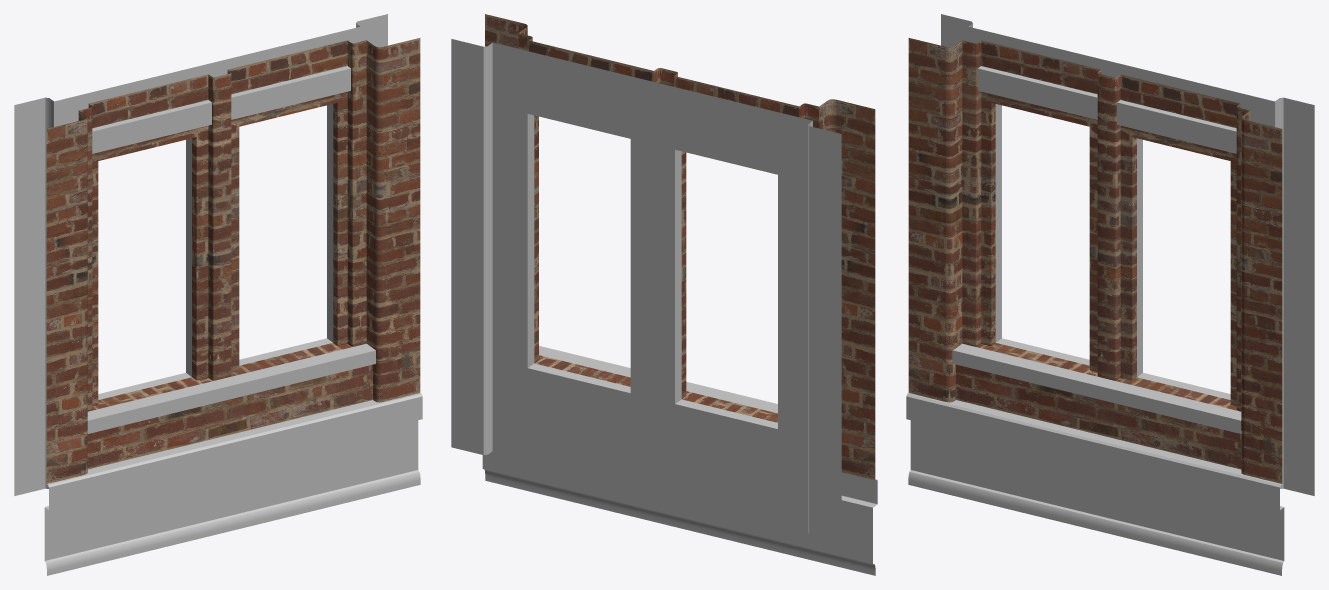
Rendered from SM_Wall_Windows.fbx.
3 renders of one model, left to right at view 1: azimuth 30°, elevation 25°; view 2: azimuth 150°, elevation 25°; view 3: azimuth 330°, elevation 25°, orthographic. The views are drawn at different scales.
Parts seen in each view (by area): view 1: SM_Wall_Windows; view 2: SM_Wall_Windows; view 3: SM_Wall_Windows.
Part boxes in pixels (<box>): SM_Wall_Windows: <box>14,14,422,575</box>; SM_Wall_Windows: <box>451,14,877,575</box>; SM_Wall_Windows: <box>906,14,1314,575</box>.
Size of the model in its own units: 700 by 112 by 800.
